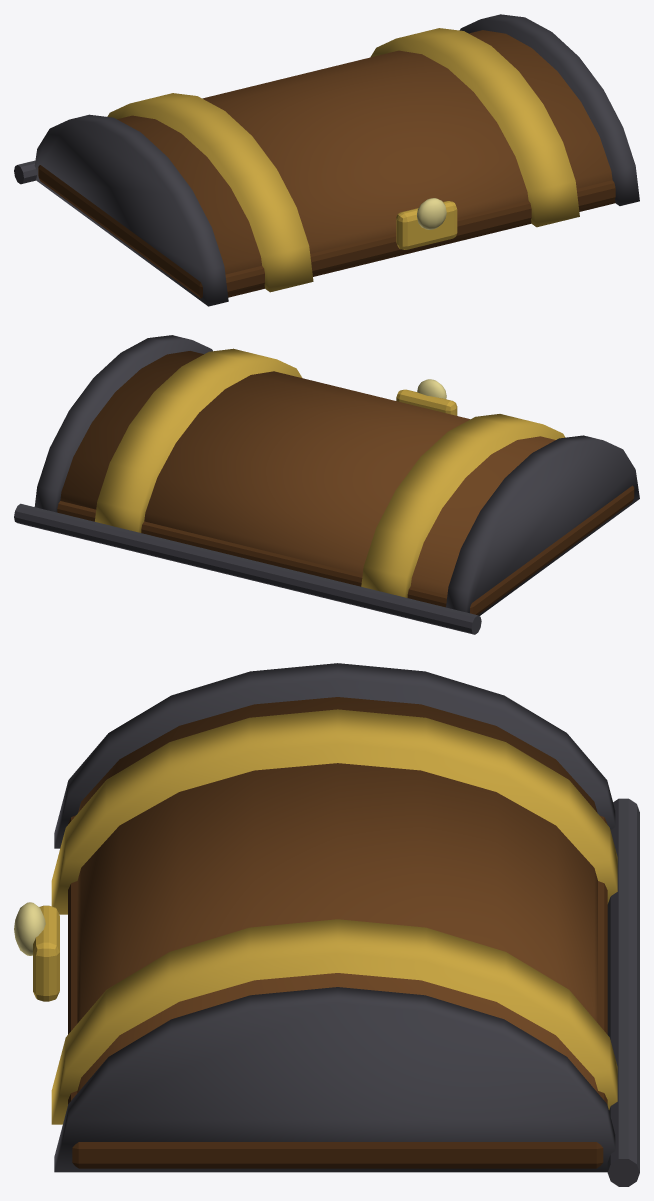
Rendered from chest_lid_lite.glb.
3 views of the same model, one above another, from view 1: azimuth 30°, elevation 25°; view 2: azimuth 150°, elevation 25°; view 3: azimuth 270°, elevation 25° (orthographic). The views are drawn at different scales.
Visible parts, largest first — view 1: Cylinder; view 2: Cylinder; view 3: Cylinder.
Part boxes in pixels (box(x1,y1,x2,y2)): Cylinder: box(14, 14, 639, 306); Cylinder: box(14, 335, 639, 634); Cylinder: box(14, 663, 639, 1186).
Bounding box in the file's own units: 1.58 × 0.3583 × 1.16.
